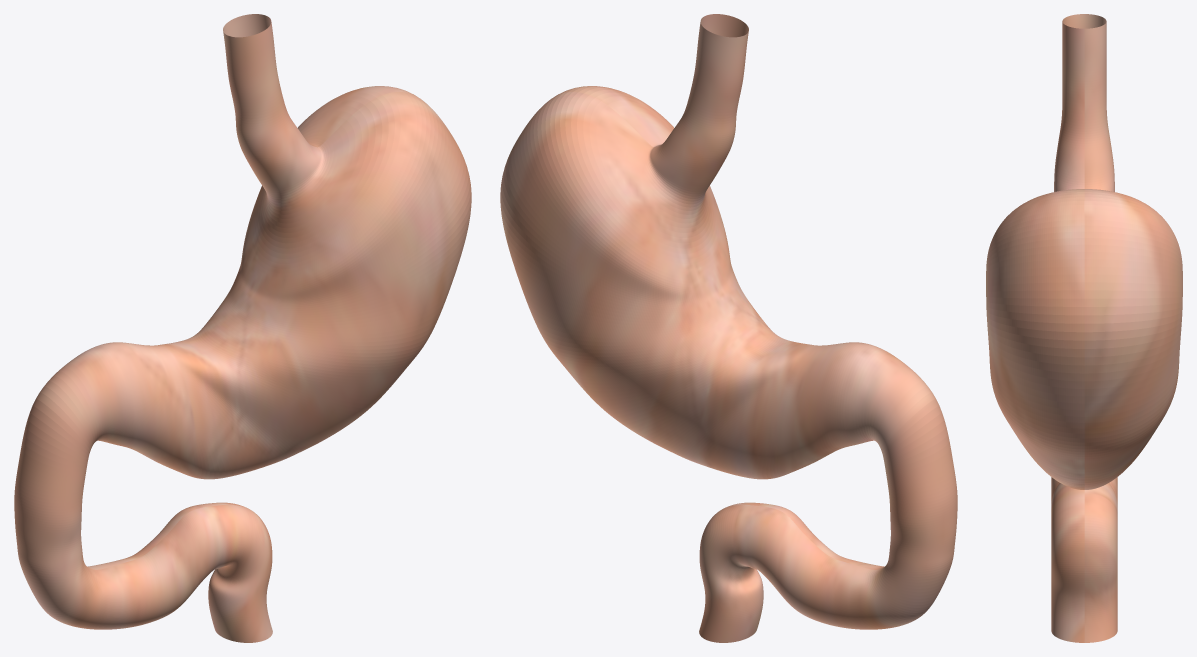
File: STOMACH.glb
The picture shows the model from 3 angles, left to right: view 1: azimuth 30°, elevation 25°; view 2: azimuth 150°, elevation 25°; view 3: azimuth 270°, elevation 25°; orthographic projection.
Parts seen in each view (by area): view 1: Cylinder_3; view 2: Cylinder_3; view 3: Cylinder_3.
Part boxes in pixels (x1,y1,x2,y2): Cylinder_3: (14, 14, 471, 642); Cylinder_3: (500, 14, 957, 642); Cylinder_3: (986, 14, 1182, 642).
Size of the model in its own units: 8.02 by 10.54 by 3.06.
1 material, 1 textured.
